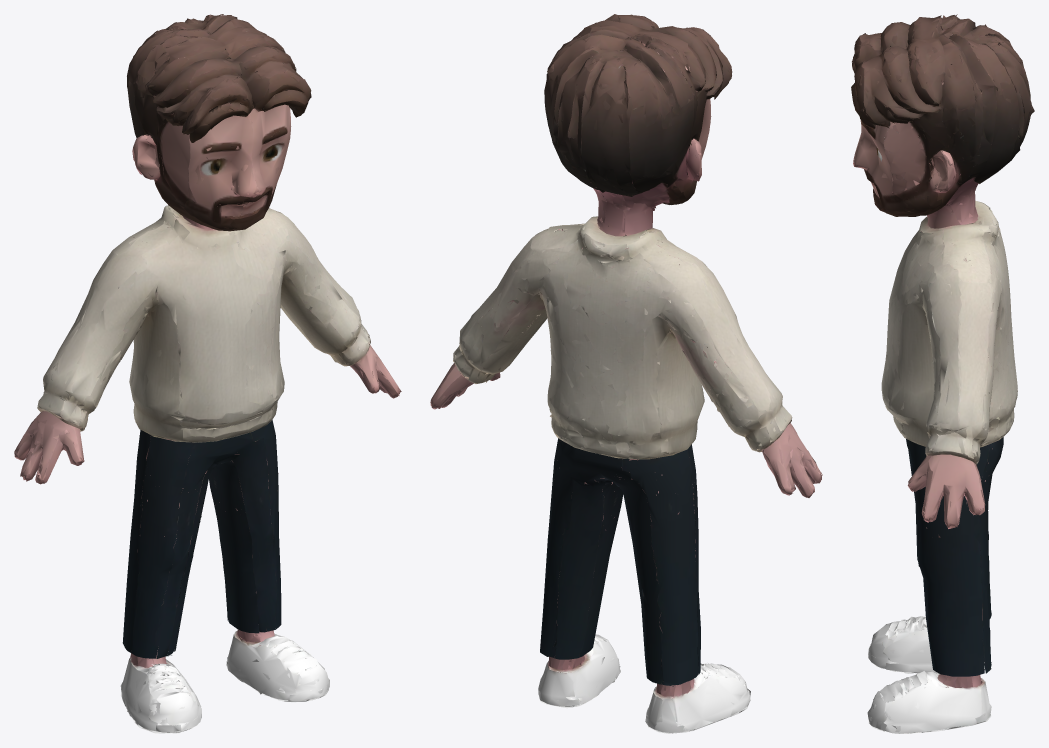
The model's file is gabriel_v2_for_mixamo.fbx.
3 renders of one model, left to right at view 1: azimuth 30°, elevation 25°; view 2: azimuth 150°, elevation 25°; view 3: azimuth 270°, elevation 25°, orthographic.
Parts seen in each view (by area): view 1: Gabriel; view 2: Gabriel; view 3: Gabriel.
Part boxes in pixels (bbox=[...]): Gabriel: bbox=[14, 14, 401, 733]; Gabriel: bbox=[430, 14, 822, 733]; Gabriel: bbox=[851, 14, 1034, 733].
Size of the model in its own units: 103 by 175 by 44.08.
1 material, 1 textured.
